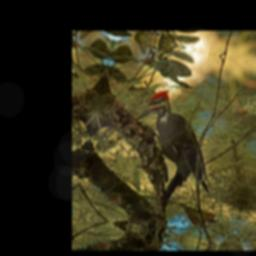Woodpecker: (122, 83, 231, 197)
